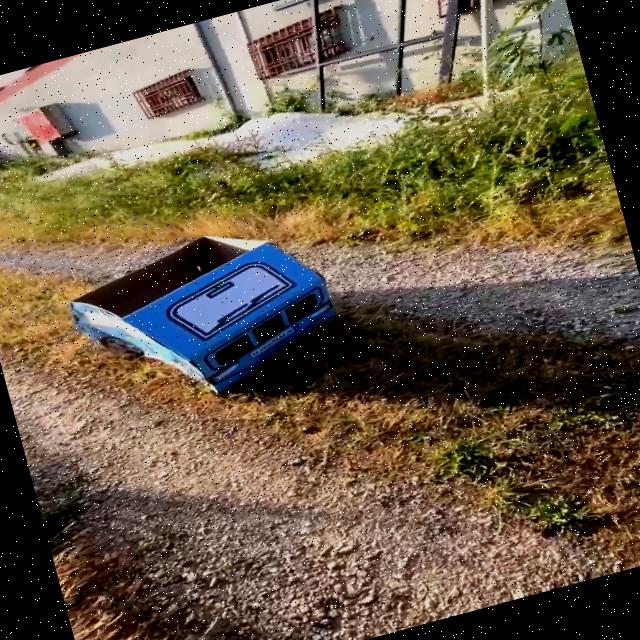blue_car: (37, 173, 382, 450)
